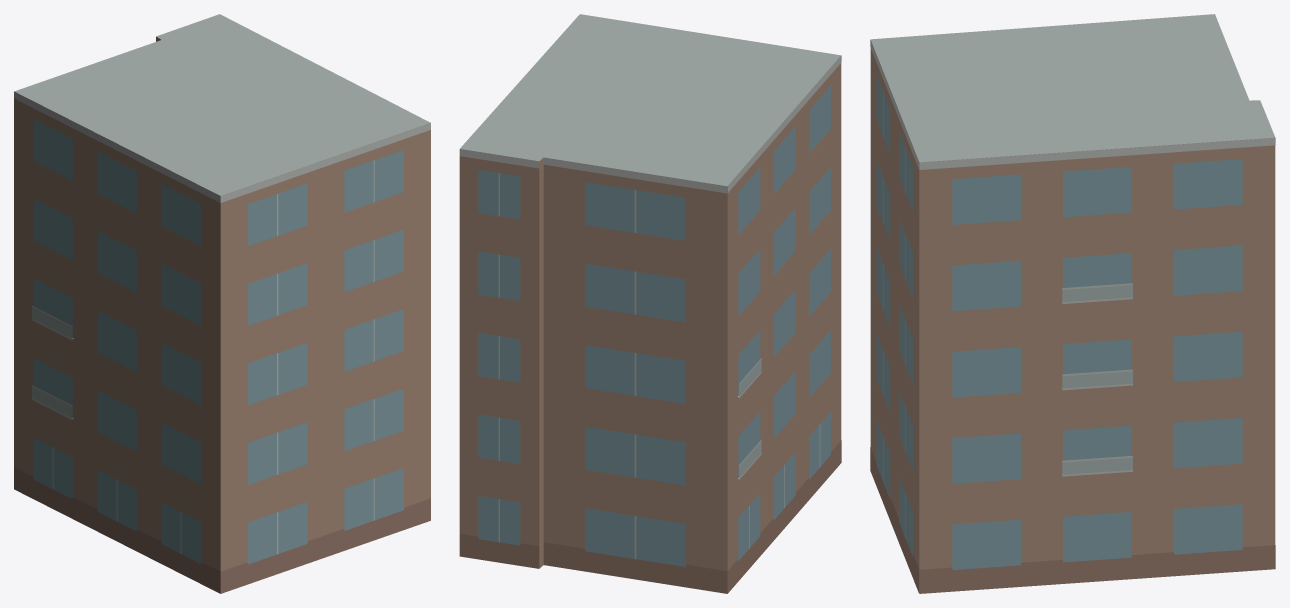
The model's file is survey-upis-32973180.glb.
The picture shows the model from 3 angles, left to right: view 1: azimuth 30°, elevation 25°; view 2: azimuth 150°, elevation 25°; view 3: azimuth 270°, elevation 25°; orthographic projection. The views are drawn at different scales.
Visible parts, largest first — view 1: survey-upis-32973180.tmp; view 2: survey-upis-32973180.tmp; view 3: survey-upis-32973180.tmp.
Boxes of the visible parts, x1,y1,x2,y2 form: survey-upis-32973180.tmp: (14,14,430,593); survey-upis-32973180.tmp: (459,14,841,593); survey-upis-32973180.tmp: (870,14,1275,593).
Bounding box in the file's own units: 10.19 × 13.8 × 11.75.
